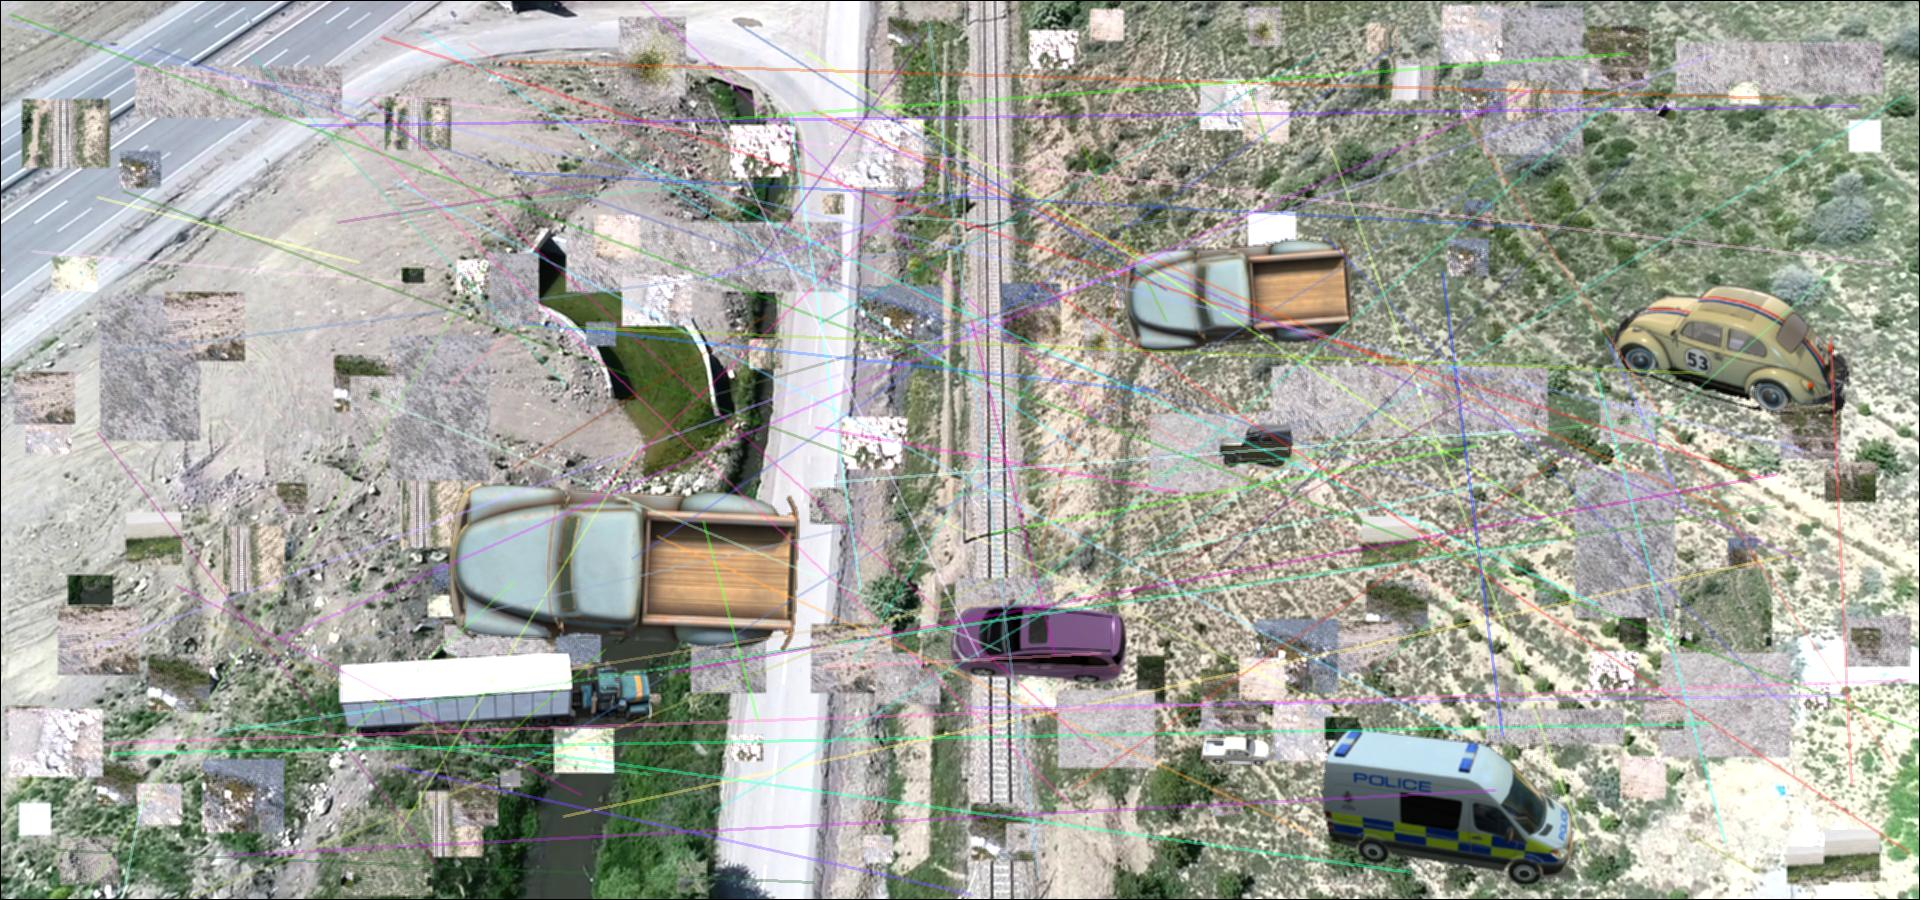arac: (447, 482, 801, 653), (1320, 725, 1573, 884), (1610, 284, 1849, 414), (1120, 227, 1357, 353), (332, 654, 660, 742), (949, 595, 1127, 684), (1220, 424, 1293, 468), (1199, 733, 1272, 770)
